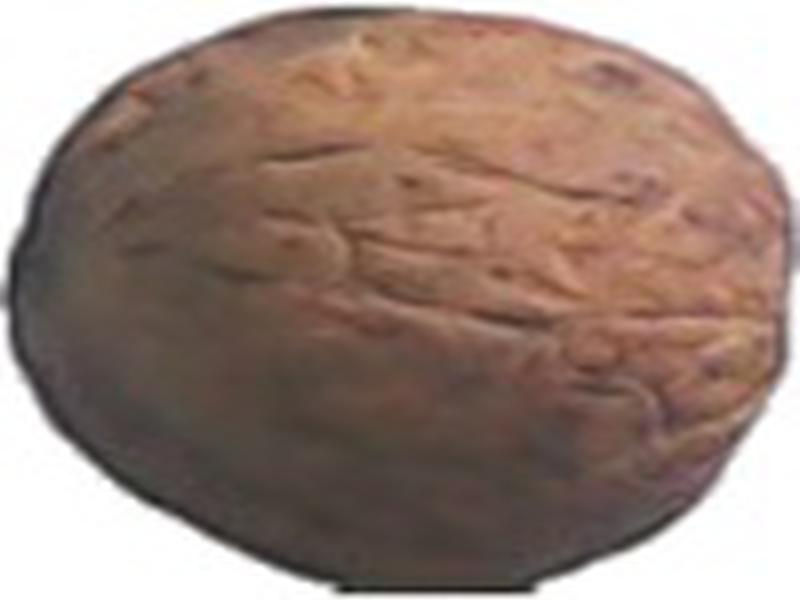walnut: (3, 1, 800, 599)
